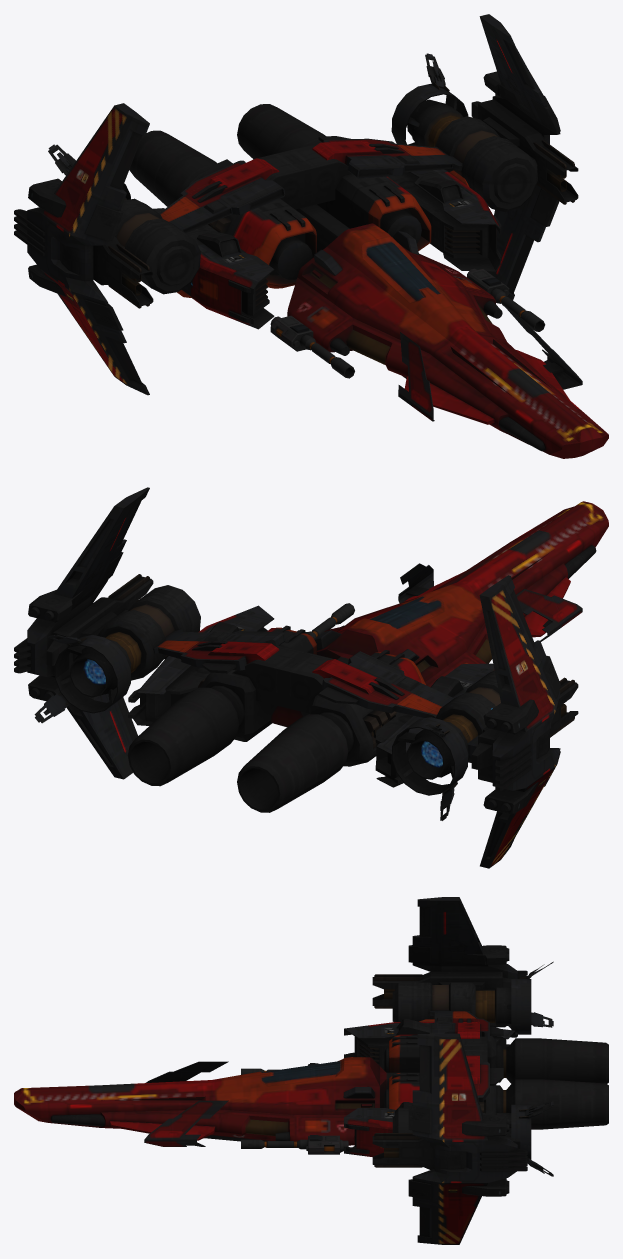
Rendered from hamm2.glb.
The picture shows the model from 3 angles, top to bottom: view 1: azimuth 30°, elevation 25°; view 2: azimuth 150°, elevation 25°; view 3: azimuth 270°, elevation 25°; orthographic projection. The views are drawn at different scales.
Parts seen in each view (by area): view 1: GXX_Cockpit-B001, GXX_L-Wing-D002, GXX_L-Wing-E003, GXX_L-Wing-D001, GXX_L-Wing-E004, GXX_L-Prop-B003, GXX_L-Prop-B004, GXX_L-Prop-C002, GXX_L-LaserX006, GXX_L-LaserX005, GXX_L-Prop-C001; view 2: GXX_Cockpit-B001, GXX_L-Wing-D002, GXX_L-Wing-E003, GXX_L-Wing-D001, GXX_L-Wing-E004, GXX_L-Prop-B003, GXX_L-Prop-B004, GXX_L-Prop-C002, GXX_L-Prop-C001, GXX_L-LaserX005; view 3: GXX_Cockpit-B001, GXX_L-Wing-D001, GXX_L-Wing-D002, GXX_L-Wing-E004, GXX_L-Wing-E003, GXX_L-Prop-B004, GXX_L-Prop-C001, GXX_L-Prop-B003, GXX_L-LaserX005, GXX_L-Prop-C002.
Part boxes in pixels (x1,y1,x2,y2): GXX_Cockpit-B001: [129, 104, 608, 458]; GXX_L-Wing-D002: [14, 103, 153, 395]; GXX_L-Wing-E003: [312, 53, 537, 212]; GXX_L-Wing-D001: [471, 14, 578, 300]; GXX_L-Wing-E004: [48, 144, 285, 294]; GXX_L-Prop-B003: [387, 169, 501, 271]; GXX_L-Prop-B004: [153, 208, 274, 329]; GXX_L-Prop-C002: [398, 332, 434, 421]; GXX_L-LaserX006: [270, 315, 354, 378]; GXX_L-LaserX005: [467, 268, 545, 331]; GXX_L-Prop-C001: [505, 306, 582, 389]; GXX_Cockpit-B001: [127, 501, 608, 812]; GXX_L-Wing-D002: [467, 575, 578, 868]; GXX_L-Wing-E003: [34, 585, 285, 723]; GXX_L-Wing-D001: [14, 487, 153, 779]; GXX_L-Wing-E004: [312, 651, 500, 820]; GXX_L-Prop-B003: [128, 605, 274, 725]; GXX_L-Prop-B004: [375, 663, 494, 787]; GXX_L-Prop-C002: [516, 589, 582, 641]; GXX_L-Prop-C001: [398, 563, 433, 603]; GXX_L-LaserX005: [297, 603, 354, 638]; GXX_Cockpit-B001: [14, 1034, 608, 1147]; GXX_L-Wing-D001: [372, 1033, 527, 1244]; GXX_L-Wing-D002: [372, 897, 527, 1027]; GXX_L-Wing-E004: [392, 961, 553, 1039]; GXX_L-Wing-E003: [392, 1055, 553, 1176]; GXX_L-Prop-B004: [344, 1019, 517, 1069]; GXX_L-Prop-C001: [144, 1100, 228, 1146]; GXX_L-Prop-B003: [344, 1102, 490, 1156]; GXX_L-LaserX005: [241, 1135, 348, 1154]; GXX_L-Prop-C002: [146, 1061, 228, 1082].
Bounding box in the file's own units: 11.03 × 5.84 × 15.17.
Materials: 2 (2 with a texture image).
